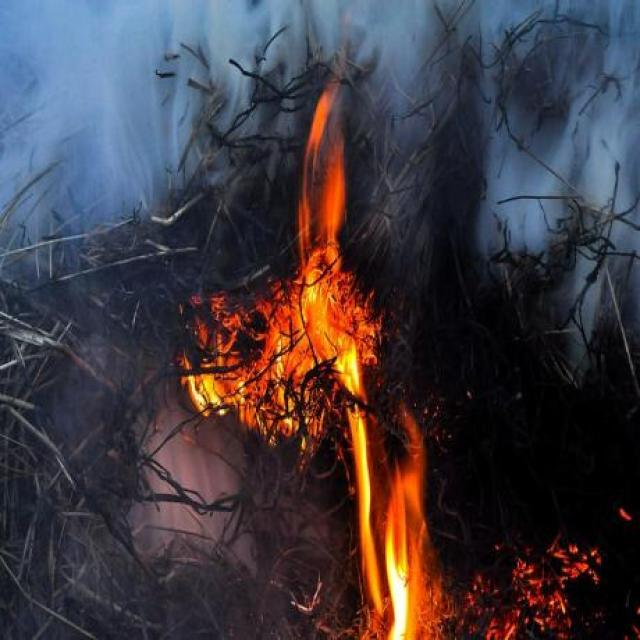Fire: (200, 118, 476, 638), (490, 518, 640, 640)
Smoke: (394, 27, 624, 274), (49, 18, 383, 118), (67, 416, 247, 579)
